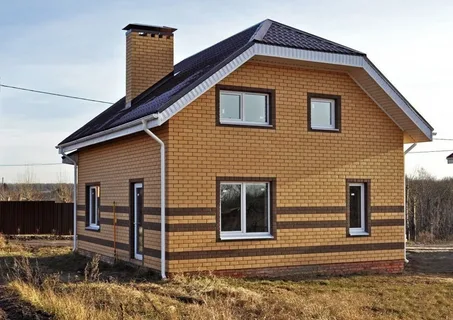private_hause: (72, 24, 417, 278)
